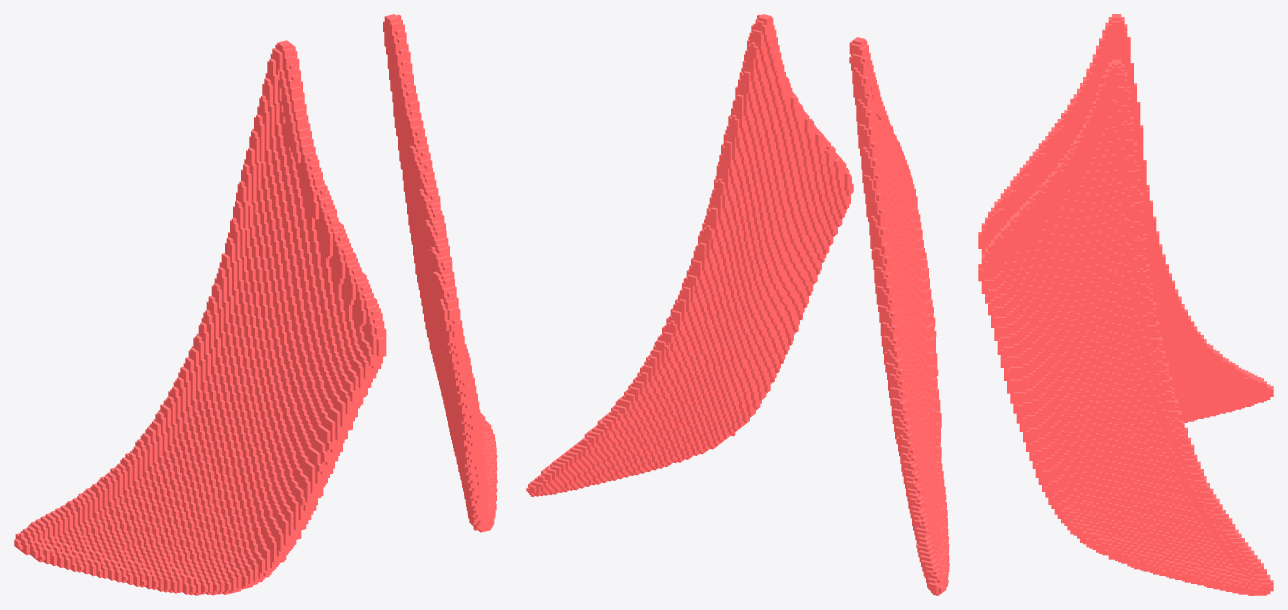
File: red.gltf
The picture shows the model from 3 angles, left to right: view 1: azimuth 30°, elevation 25°; view 2: azimuth 150°, elevation 25°; view 3: azimuth 270°, elevation 25°; orthographic projection. The views are drawn at different scales.
Visible parts, largest first — view 1: 翅膀.1; view 2: 翅膀.1; view 3: 翅膀.1.
Boxes of the visible parts, <box> form: 翅膀.1: <box>14,14,497,595</box>; 翅膀.1: <box>526,14,949,595</box>; 翅膀.1: <box>978,14,1273,595</box>.
Size of the model in its own units: 17.88 by 19.2 by 11.16.
